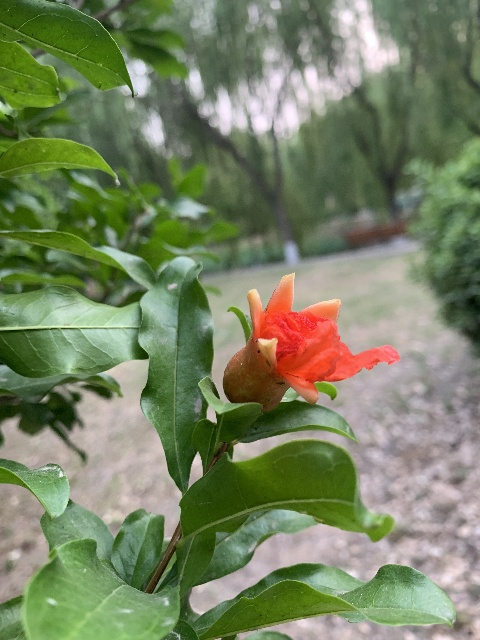flower: (222, 272, 400, 410)
